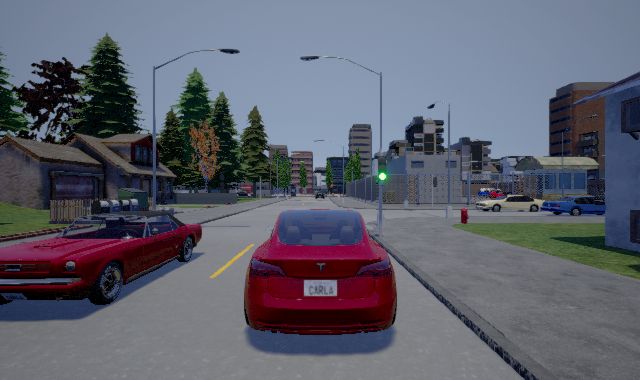traffic_light: (377, 153, 387, 183)
vehicle: (244, 209, 397, 335), (1, 211, 202, 305), (544, 193, 607, 216), (475, 193, 547, 213)
